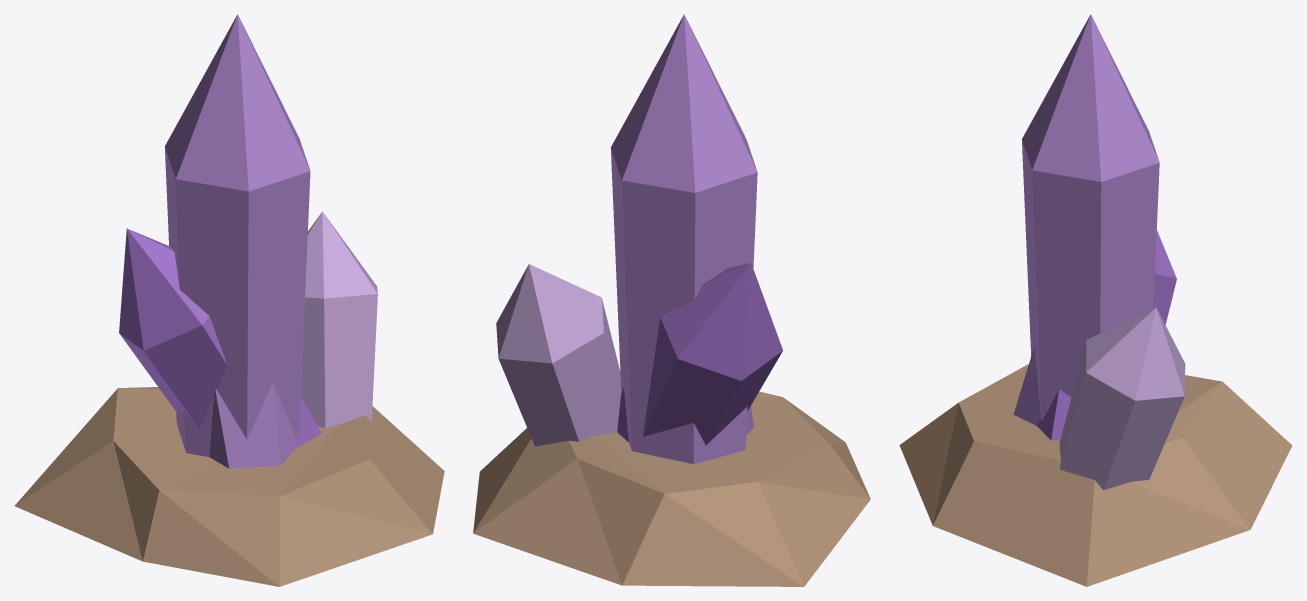
The model's file is tarhut_cristal_0.glb.
The picture shows the model from 3 angles, left to right: view 1: azimuth 30°, elevation 25°; view 2: azimuth 150°, elevation 25°; view 3: azimuth 270°, elevation 25°; orthographic projection. The views are drawn at different scales.
Parts seen in each view (by area): view 1: cristal; view 2: cristal; view 3: cristal.
Boxes of the visible parts, x1=… form: cristal: x1=14, y1=14, x2=444, y2=586; cristal: x1=473, y1=14, x2=870, y2=586; cristal: x1=899, y1=14, x2=1292, y2=586.
Size of the model in its own units: 1.31 by 1.68 by 1.25.
